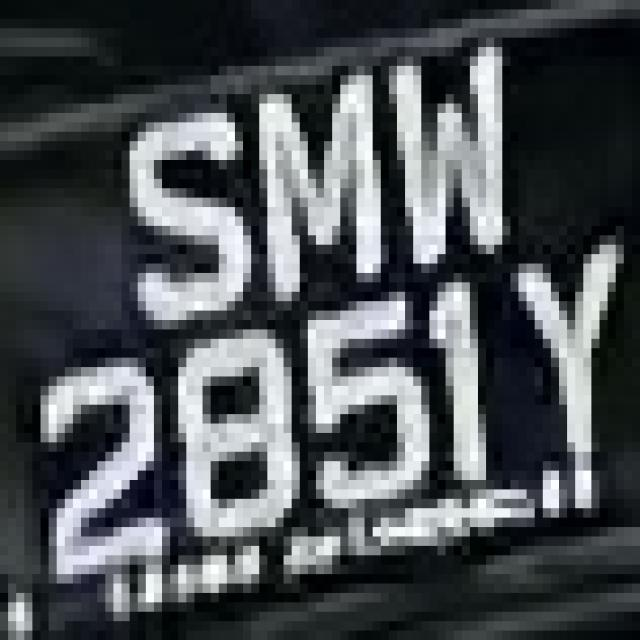1: (430, 226, 510, 508)
2: (0, 358, 178, 602)
5: (292, 283, 446, 536)
8: (162, 320, 316, 565)
M: (235, 66, 405, 320)
S: (105, 66, 243, 348)
W: (364, 38, 534, 264)
Y: (486, 207, 640, 499)
